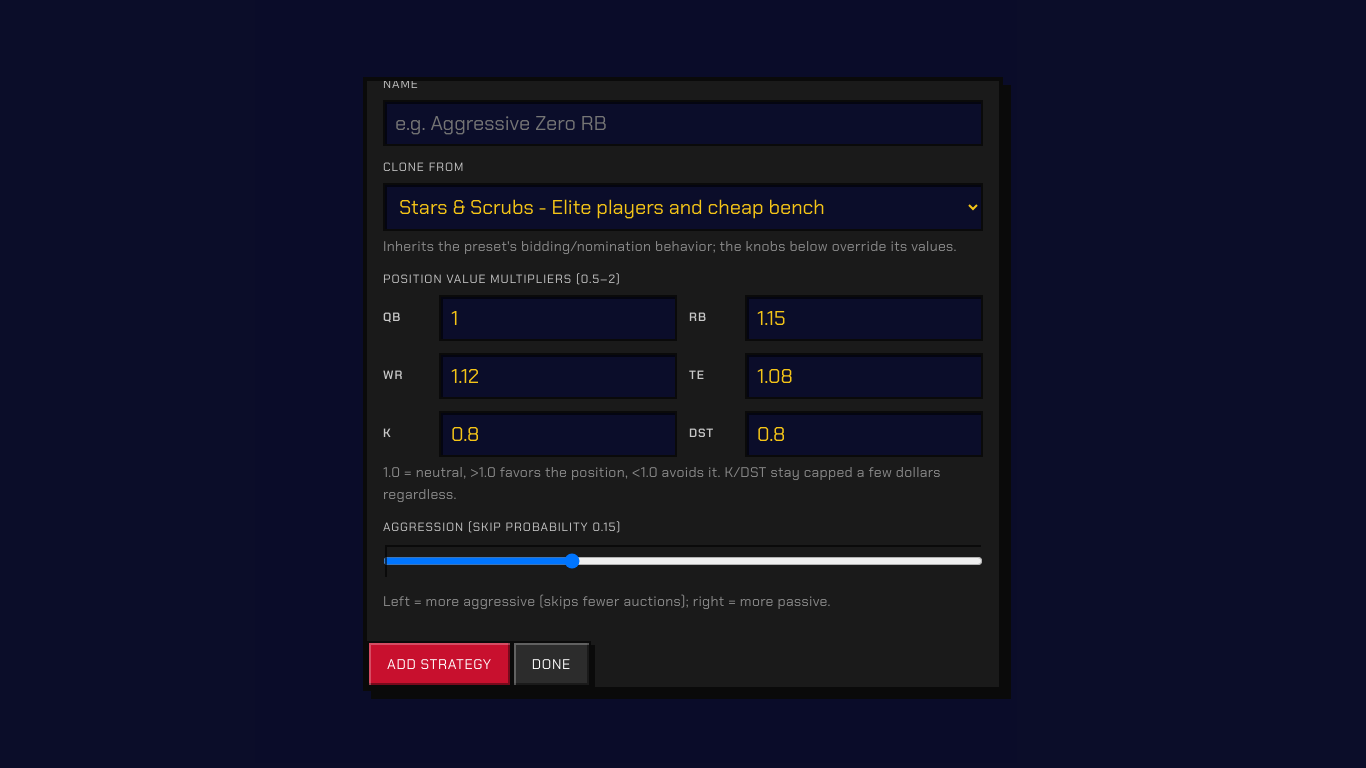
Test: StrategyBuilderModal › requires a name before adding
This screenshot has width=1366, height=768.
(page scrolled)
Click the button "Add strategy" at (439, 664), box [367,641,512,687]
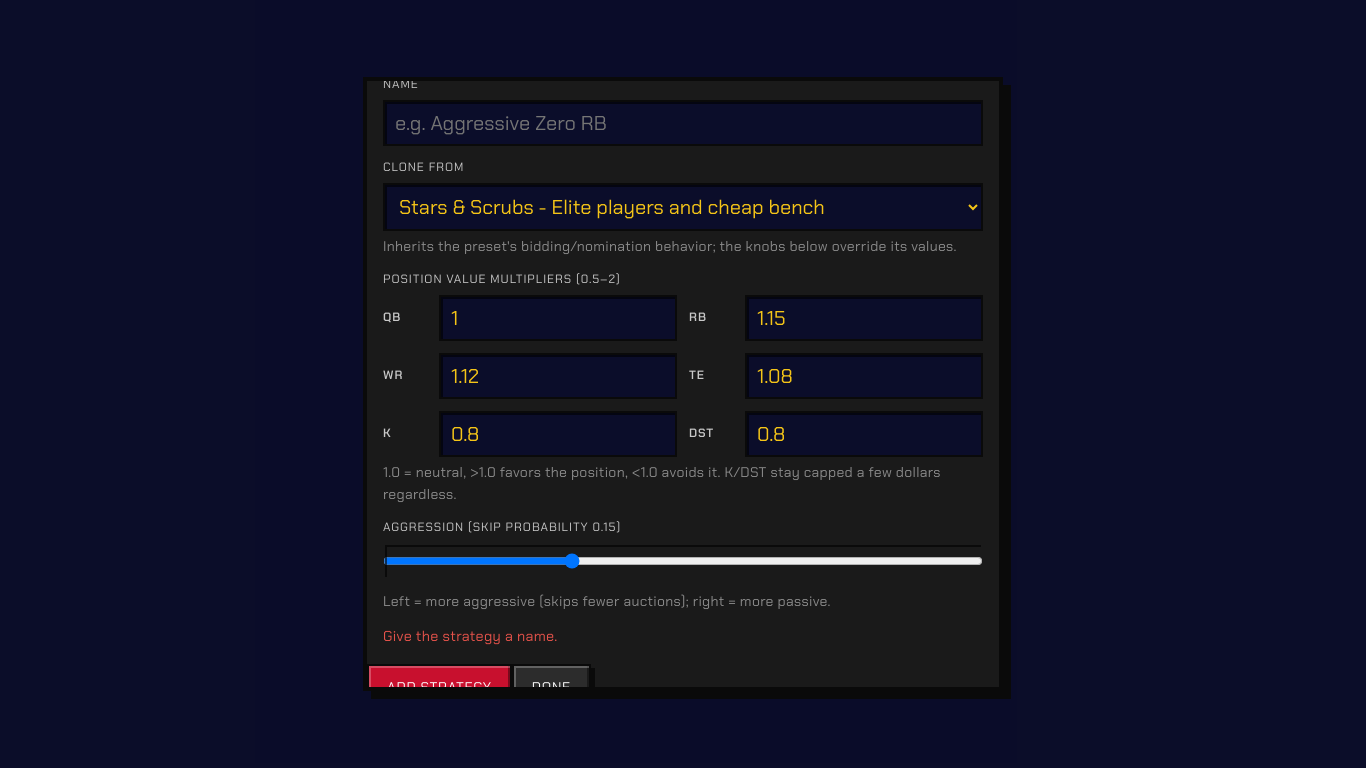
Check: the text "Give the strategy a name." is shown, box [383,627,558,645]
